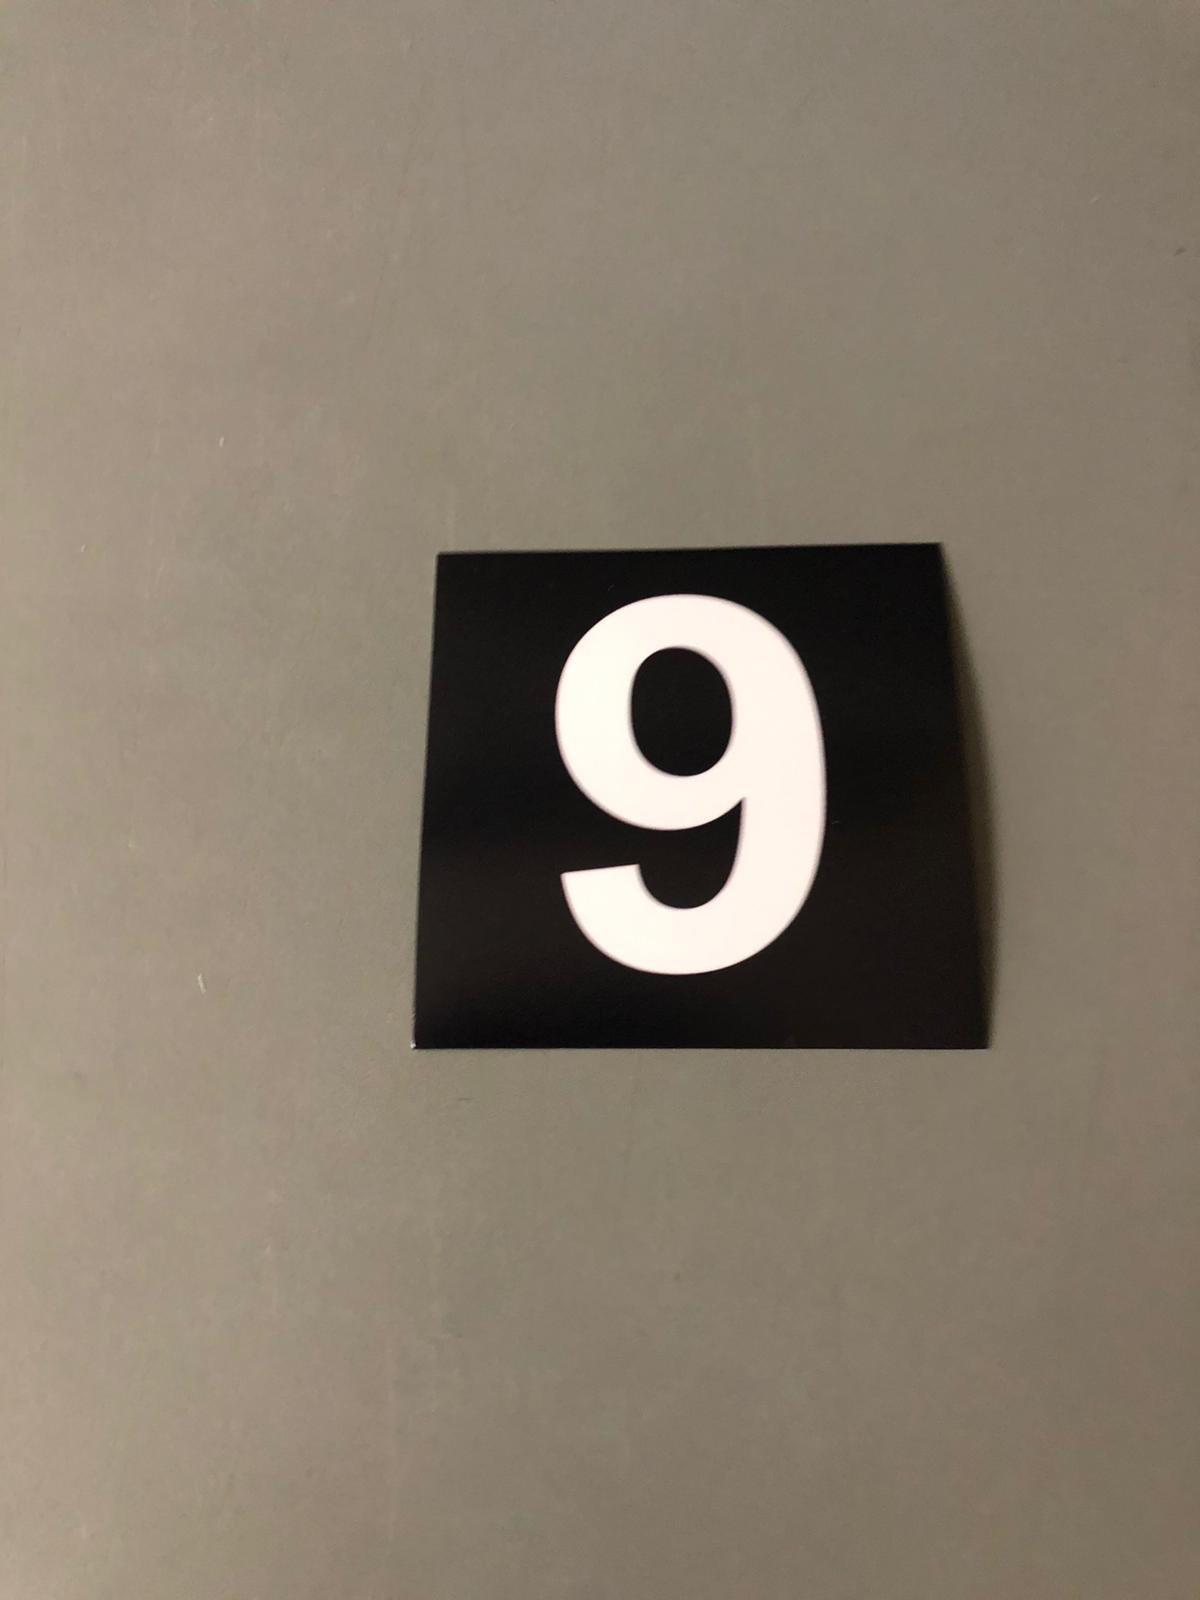Number 9: (441, 567, 955, 1026)
